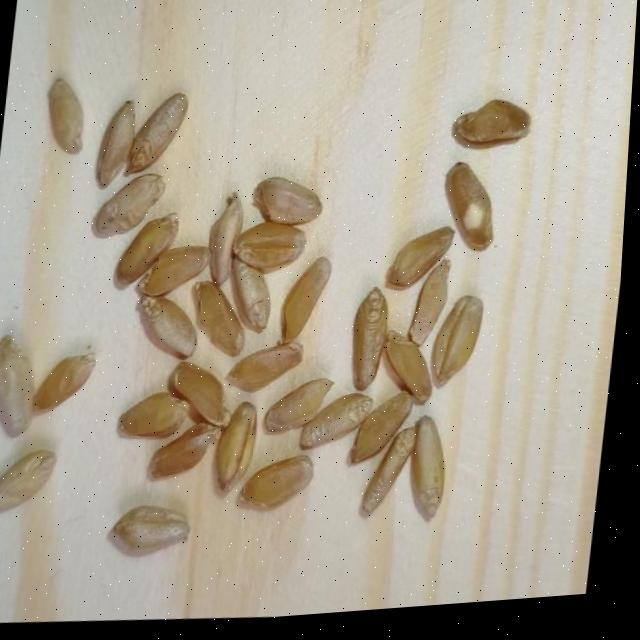wheat_grain: (127, 92, 187, 176), (361, 426, 416, 515), (113, 213, 178, 287), (348, 392, 413, 462), (431, 295, 481, 385), (93, 174, 163, 237), (280, 255, 330, 342), (445, 160, 493, 248), (30, 349, 96, 413), (385, 226, 454, 287), (299, 391, 372, 447), (136, 293, 196, 360), (170, 360, 230, 427), (225, 340, 303, 391), (150, 421, 221, 477), (240, 454, 314, 507), (110, 504, 189, 553), (136, 244, 208, 297), (194, 282, 245, 356), (261, 379, 331, 432), (453, 99, 529, 146), (232, 222, 306, 270), (96, 99, 137, 185), (382, 333, 432, 403), (215, 402, 255, 489), (352, 287, 386, 389), (0, 449, 55, 512), (1, 336, 34, 435), (116, 393, 190, 437), (409, 261, 448, 344), (253, 176, 322, 222), (412, 417, 443, 518), (208, 193, 242, 285), (230, 254, 269, 332), (48, 78, 84, 153)
